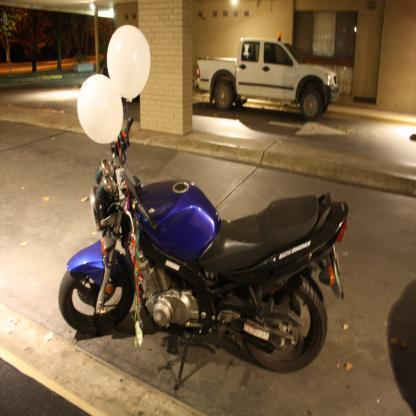truck: (217, 31, 341, 119)
